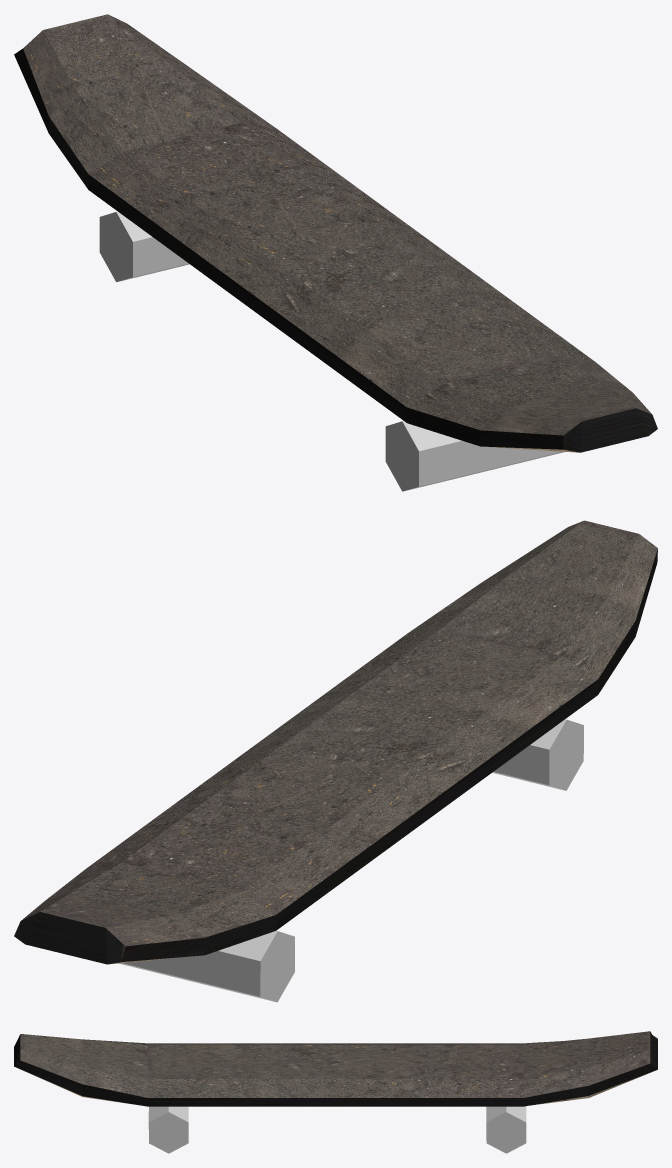
The model's file is skateboard.fbx.
3 renders of one model, top to bottom at view 1: azimuth 30°, elevation 25°; view 2: azimuth 150°, elevation 25°; view 3: azimuth 270°, elevation 25°, orthographic. The views are drawn at different scales.
Parts seen in each view (by area): view 1: Skate, Wheel; view 2: Skate, Wheel; view 3: Skate, Wheel.
Part boxes in pixels (x1=…): Skate: x1=14, y1=14, x2=657, y2=452; Wheel: x1=99, y1=211, x2=564, y2=491; Skate: x1=14, y1=520, x2=657, y2=964; Wheel: x1=118, y1=719, x2=583, y2=1002; Skate: x1=14, y1=1031, x2=657, y2=1106; Wheel: x1=148, y1=1106, x2=526, y2=1153.
Bounding box in the file's own units: 0.9483 × 0.7272 × 4.75.
